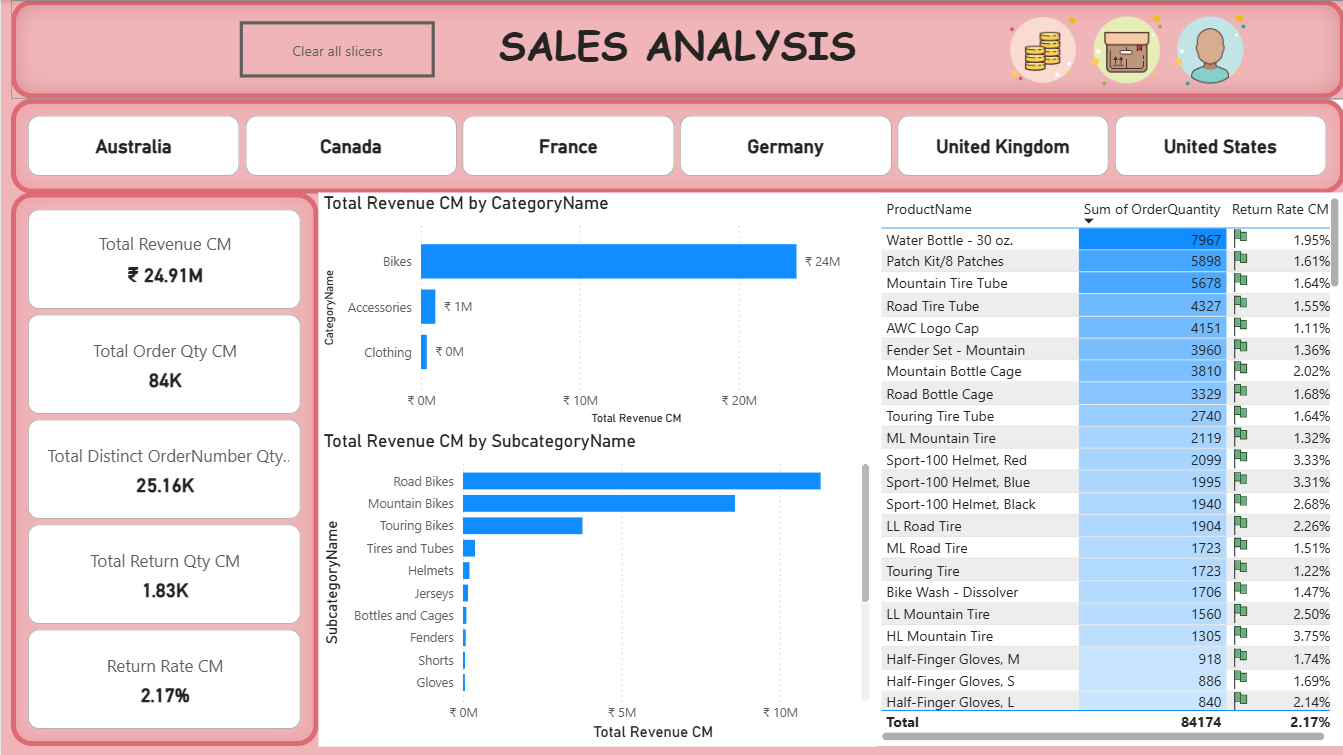

The page's visual inventory and layout, read from the dashboard file:
{"tool":"powerbi","page":{"name":"Sales Page","canvas":[1280,720],"ordinal":0},"visuals":[{"type":"textbox","box":[10,0,1270,93.8],"z":0},{"type":"advancedSlicerVisual","fields":{"Values":["Dim Territory Table.Country"]},"box":[10,93.8,1270,90],"z":1000},{"type":"cardVisual","fields":{"Data":["Final Sales Fact Table.Total Revenue CM","Final Sales Fact Table.Total Order Qty CM","Final Sales Fact Table.Total Distinct OrderNumber Qty CM","Returns Fact Table.Total Return Qty CM","Final Sales Fact Table.Return Rate CM"]},"box":[10,183.8,292.5,527.5],"z":2000},{"type":"clusteredBarChart","fields":{"Category":["Dim Product Categories Table.CategoryName"],"Y":["Final Sales Fact Table.Total Revenue CM"]},"box":[302.5,183.8,530,226.2],"z":3000},{"type":"clusteredBarChart","fields":{"Category":["Product Subcategories Table.SubcategoryName"],"Y":["Final Sales Fact Table.Total Revenue CM"]},"box":[302.5,410,530,301.2],"z":4000},{"type":"tableEx","fields":{"Values":["Dim Product Table.ProductName","Sum(Final Sales Fact Table.OrderQuantity)","Final Sales Fact Table.Return Rate CM"]},"box":[832.5,183.8,447.5,527.5],"z":5000},{"type":"image","box":[946.2,0,92.5,95],"z":6000},{"type":"image","box":[1021.2,0,101.2,95],"z":7000},{"type":"image","box":[1102.5,0,98.8,95],"z":8000},{"type":"actionButton","box":[227.5,20,186.2,53.8],"z":9000}]}

Visuals, with their boxes in screenshot pixels (x1, y1, x2, y2), scaled from the page's 1280x720 canvas onto the 1343x755 screenshot:
textbox: rect(10, 0, 1342, 98)
advancedSlicerVisual - Dim Territory Table.Country: rect(10, 98, 1342, 193)
cardVisual - Final Sales Fact Table.Total Revenue CM x Final Sales Fact Table.Total Order Qty CM: rect(10, 193, 317, 746)
clusteredBarChart - Dim Product Categories Table.CategoryName x Final Sales Fact Table.Total Revenue CM: rect(317, 193, 873, 430)
clusteredBarChart - Product Subcategories Table.SubcategoryName x Final Sales Fact Table.Total Revenue CM: rect(317, 430, 873, 746)
tableEx - Dim Product Table.ProductName x Sum(Final Sales Fact Table.OrderQuantity): rect(873, 193, 1342, 746)
image: rect(993, 0, 1090, 100)
image: rect(1071, 0, 1178, 100)
image: rect(1157, 0, 1260, 100)
actionButton: rect(239, 21, 434, 77)
